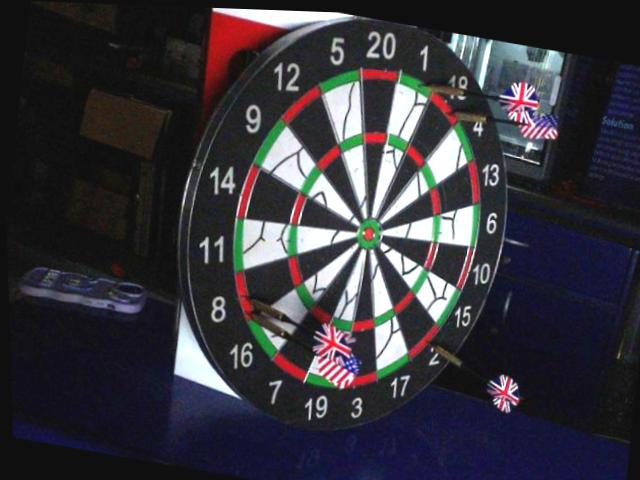double_1: (399, 76, 428, 94)
double_18: (428, 95, 460, 128)
double_2: (408, 327, 441, 361)
double_8: (235, 276, 256, 319)
